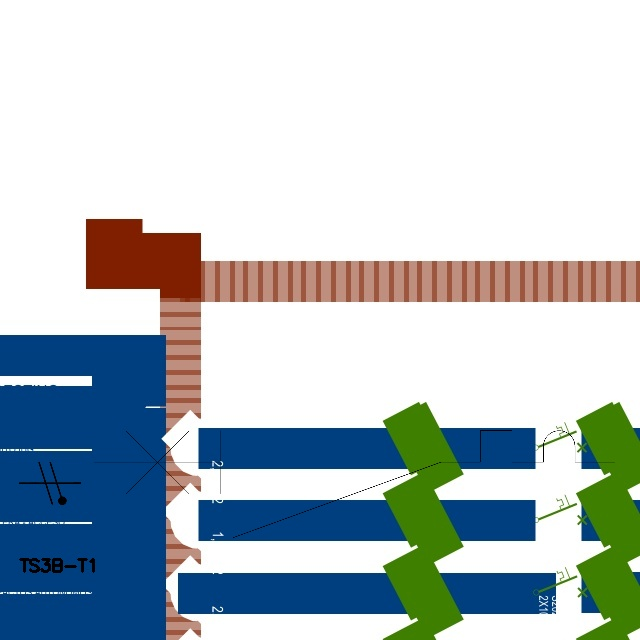interruptor_termomagnetico: (80, 417, 627, 551)
